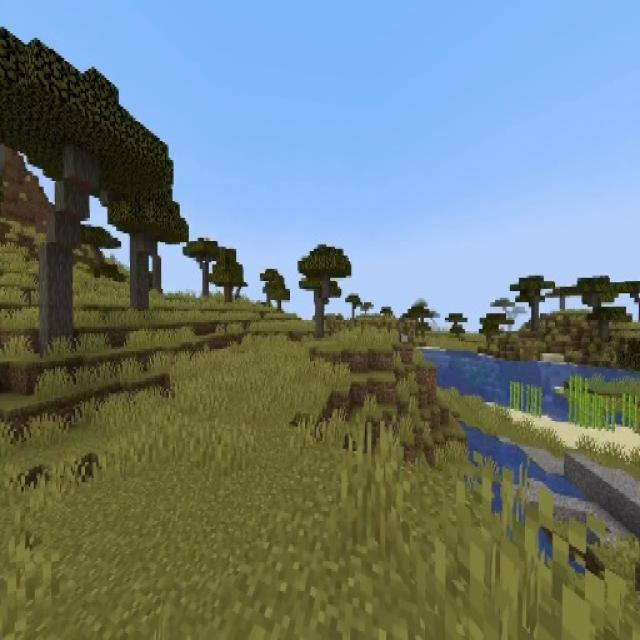acacia: (0, 24, 169, 363), (102, 178, 186, 306), (297, 244, 352, 338)
acacia_log: (40, 149, 94, 353), (130, 236, 150, 308)
